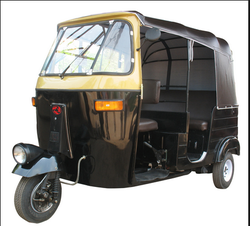auto: (13, 9, 240, 224)
